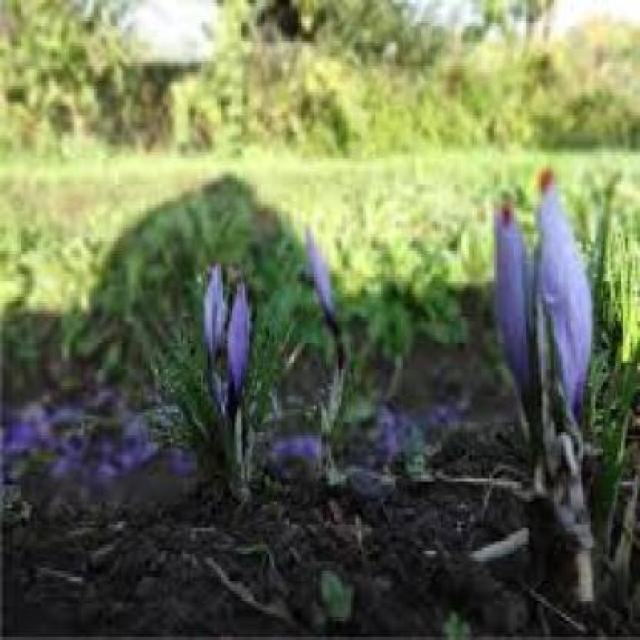Flower: (533, 172, 601, 438), (485, 194, 546, 406), (224, 282, 258, 410), (202, 260, 228, 371)
stigma: (532, 169, 571, 193)
